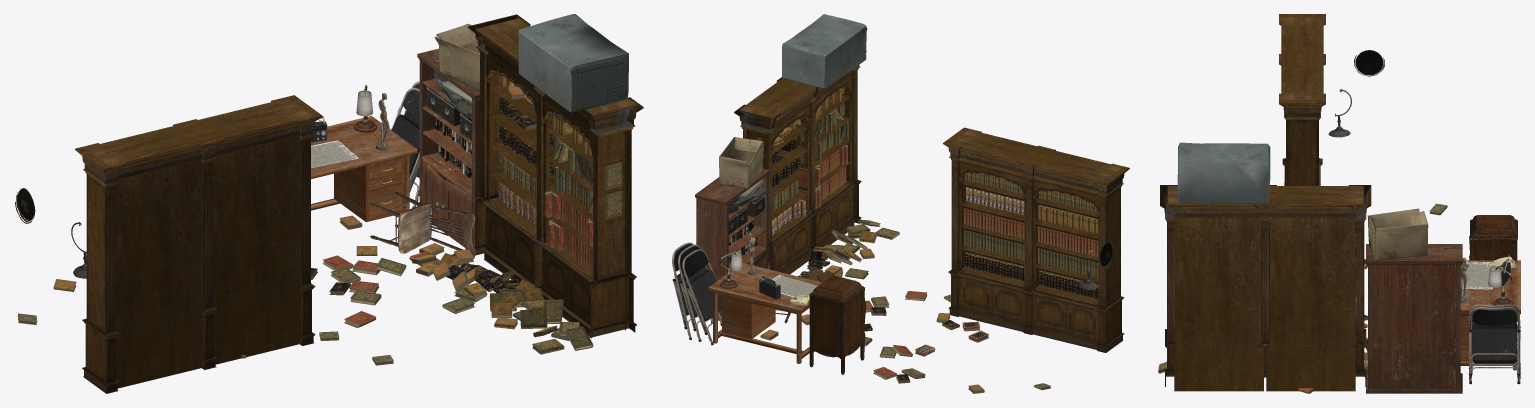
The model's file is sm301_01_609room_00.fbx.
3 renders of one model, left to right at view 1: azimuth 30°, elevation 25°; view 2: azimuth 150°, elevation 25°; view 3: azimuth 270°, elevation 25°, orthographic. The views are drawn at different scales.
Visible parts, largest first — view 1: sm39115BookShelSetf01A00ms_1_Group_0_Sub_1__sm30_159_Bo_4e0c, sm39117BookShelSetf03A00ms_1_Group_0_Sub_1__sm30_159_Bo_214d, sm36058Cardboard07A00ms_1_Group_0_Sub_1__sm36_058_Cardb_0d90, sm39117BookShelSetf03A00ms_1_Group_1_Sub_1__sm36_001_Bo_f6db, sm39069ShelfSet01A00ms_1_Group_0_Sub_4__sm30_099_SlideS_087a, sm39118BookFloor01A00ms_1_Group_0_Sub_1__sm36_001_BookS_7dd4, sm30012OfficeChair01A00ms_1_Group_0_Sub_1__sm30_012_Off_4274, sm30147OfficeDesk01A00ms_1_Group_0_Sub_1__sm30_147_Offi_d004, sm36002Cardboard01A00ms_1_Group_0_Sub_1__sm36_002_Cardb_1db1, sm30147OfficeDesk01A00ms_1_Group_3_Sub_1__sm30_147_Offi_3f16, sm30199FoldingChair01A00ms_1_Group_0_Sub_1__sm30_153_Fo_c7cd, sm30147OfficeDesk01A00ms_1_Group_5_Sub_1__sm30_147_Offi_17a0 (+10 smaller); view 2: sm39115BookShelSetf01A00ms_1_Group_0_Sub_1__sm30_159_Bo_4e0c, sm39117BookShelSetf03A00ms_1_Group_0_Sub_1__sm30_159_Bo_214d, sm36058Cardboard07A00ms_1_Group_0_Sub_1__sm36_058_Cardb_0d90, sm39069ShelfSet01A00ms_1_Group_0_Sub_4__sm30_099_SlideS_087a, sm30142RecordPlayer02A00ms_1_Group_0_Sub_1__sm30_142_Re_d1a4, sm39117BookShelSetf03A00ms_1_Group_1_Sub_1__sm36_001_Bo_f6db, sm30199FoldingChair01A00ms_1_Group_0_Sub_1__sm30_153_Fo_c7cd, sm39118BookFloor01A00ms_1_Group_0_Sub_1__sm36_001_BookS_7dd4, sm30147OfficeDesk01A00ms_1_Group_0_Sub_1__sm30_147_Offi_d004, sm36002Cardboard01A00ms_1_Group_0_Sub_1__sm36_002_Cardb_1db1, sm30147OfficeDesk01A00ms_1_Group_3_Sub_1__sm30_147_Offi_3f16, sm39115BookShelSetf01A00ms_1_Group_1_Sub_1__sm36_001_Bo_e0dc (+16 smaller); view 3: sm39117BookShelSetf03A00ms_1_Group_0_Sub_1__sm30_159_Bo_214d, sm39069ShelfSet01A00ms_1_Group_0_Sub_4__sm30_099_SlideS_087a, sm39115BookShelSetf01A00ms_1_Group_0_Sub_1__sm30_159_Bo_4e0c, sm36058Cardboard07A00ms_1_Group_0_Sub_1__sm36_058_Cardb_0d90, sm30199FoldingChair01A00ms_1_Group_0_Sub_1__sm30_153_Fo_c7cd, sm36002Cardboard01A00ms_1_Group_0_Sub_1__sm36_002_Cardb_1db1, sm30142RecordPlayer02A00ms_1_Group_0_Sub_1__sm30_142_Re_d1a4, sm30147OfficeDesk01A00ms_1_Group_0_Sub_1__sm30_147_Offi_d004, sm36040WhiteCloth01A00ms_1_Group_0_Sub_1__sm36_040_Whit_44ca, sm31020WallClock01A00ms_1_Group_0_Sub_1__sm31_020_WallC_4e20, sm30147OfficeDesk01A00ms_1_Group_3_Sub_1__sm30_147_Offi_3f16, sm39118BookFloor01A00ms_1_Group_0_Sub_1__sm36_001_BookS_7dd4.
Part boxes in pixels (box(x1,y1,x2,y2)): sm39115BookShelSetf01A00ms_1_Group_0_Sub_1__sm30_159_Bo_4e0c: box(75, 95, 322, 393); sm39117BookShelSetf03A00ms_1_Group_0_Sub_1__sm30_159_Bo_214d: box(468, 14, 643, 338); sm36058Cardboard07A00ms_1_Group_0_Sub_1__sm36_058_Cardb_0d90: box(518, 14, 628, 112); sm39117BookShelSetf03A00ms_1_Group_1_Sub_1__sm36_001_Bo_f6db: box(411, 116, 593, 340); sm39069ShelfSet01A00ms_1_Group_0_Sub_4__sm30_099_SlideS_087a: box(417, 48, 479, 255); sm39118BookFloor01A00ms_1_Group_0_Sub_1__sm36_001_BookS_7dd4: box(17, 215, 475, 365); sm30012OfficeChair01A00ms_1_Group_0_Sub_1__sm30_012_Off_4274: box(370, 192, 475, 258); sm30147OfficeDesk01A00ms_1_Group_0_Sub_1__sm30_147_Offi_d004: box(311, 116, 417, 178); sm36002Cardboard01A00ms_1_Group_0_Sub_1__sm36_002_Cardb_1db1: box(434, 23, 479, 91); sm30147OfficeDesk01A00ms_1_Group_3_Sub_1__sm30_147_Offi_3f16: box(334, 156, 405, 222); sm30199FoldingChair01A00ms_1_Group_0_Sub_1__sm30_153_Fo_c7cd: box(390, 81, 419, 208); sm30147OfficeDesk01A00ms_1_Group_5_Sub_1__sm30_147_Offi_17a0: box(369, 157, 401, 217); sm39115BookShelSetf01A00ms_1_Group_0_Sub_1__sm30_159_Bo_4e0c: box(943, 127, 1129, 352); sm39117BookShelSetf03A00ms_1_Group_0_Sub_1__sm30_159_Bo_214d: box(734, 51, 866, 274); sm36058Cardboard07A00ms_1_Group_0_Sub_1__sm36_058_Cardb_0d90: box(782, 14, 867, 88); sm39069ShelfSet01A00ms_1_Group_0_Sub_4__sm30_099_SlideS_087a: box(695, 168, 769, 320); sm30142RecordPlayer02A00ms_1_Group_0_Sub_1__sm30_142_Re_d1a4: box(809, 275, 866, 374); sm39117BookShelSetf03A00ms_1_Group_1_Sub_1__sm36_001_Bo_f6db: box(798, 88, 877, 282); sm30199FoldingChair01A00ms_1_Group_0_Sub_1__sm30_153_Fo_c7cd: box(672, 242, 721, 345); sm39118BookFloor01A00ms_1_Group_0_Sub_1__sm36_001_BookS_7dd4: box(760, 268, 1050, 393); sm30147OfficeDesk01A00ms_1_Group_0_Sub_1__sm30_147_Offi_d004: box(708, 263, 822, 313); sm36002Cardboard01A00ms_1_Group_0_Sub_1__sm36_002_Cardb_1db1: box(719, 137, 763, 188); sm30147OfficeDesk01A00ms_1_Group_3_Sub_1__sm30_147_Offi_3f16: box(722, 296, 775, 339); sm39115BookShelSetf01A00ms_1_Group_1_Sub_1__sm36_001_Bo_e0dc: box(964, 230, 1024, 260); sm39117BookShelSetf03A00ms_1_Group_0_Sub_1__sm30_159_Bo_214d: box(1160, 185, 1371, 391); sm39069ShelfSet01A00ms_1_Group_0_Sub_4__sm30_099_SlideS_087a: box(1366, 244, 1462, 393); sm39115BookShelSetf01A00ms_1_Group_0_Sub_1__sm30_159_Bo_4e0c: box(1279, 14, 1325, 185); sm36058Cardboard07A00ms_1_Group_0_Sub_1__sm36_058_Cardb_0d90: box(1177, 142, 1270, 203); sm30199FoldingChair01A00ms_1_Group_0_Sub_1__sm30_153_Fo_c7cd: box(1468, 304, 1520, 384); sm36002Cardboard01A00ms_1_Group_0_Sub_1__sm36_002_Cardb_1db1: box(1367, 208, 1428, 260); sm30142RecordPlayer02A00ms_1_Group_0_Sub_1__sm30_142_Re_d1a4: box(1469, 215, 1517, 260); sm30147OfficeDesk01A00ms_1_Group_0_Sub_1__sm30_147_Offi_d004: box(1460, 260, 1520, 314); sm36040WhiteCloth01A00ms_1_Group_0_Sub_1__sm36_040_Whit_44ca: box(1463, 261, 1494, 289); sm31020WallClock01A00ms_1_Group_0_Sub_1__sm31_020_WallC_4e20: box(1355, 50, 1382, 75); sm30147OfficeDesk01A00ms_1_Group_3_Sub_1__sm30_147_Offi_3f16: box(1460, 316, 1473, 360); sm39118BookFloor01A00ms_1_Group_0_Sub_1__sm36_001_BookS_7dd4: box(1298, 203, 1447, 393).
Size of the model in its own units: 6.21 by 3.32 by 4.71.
